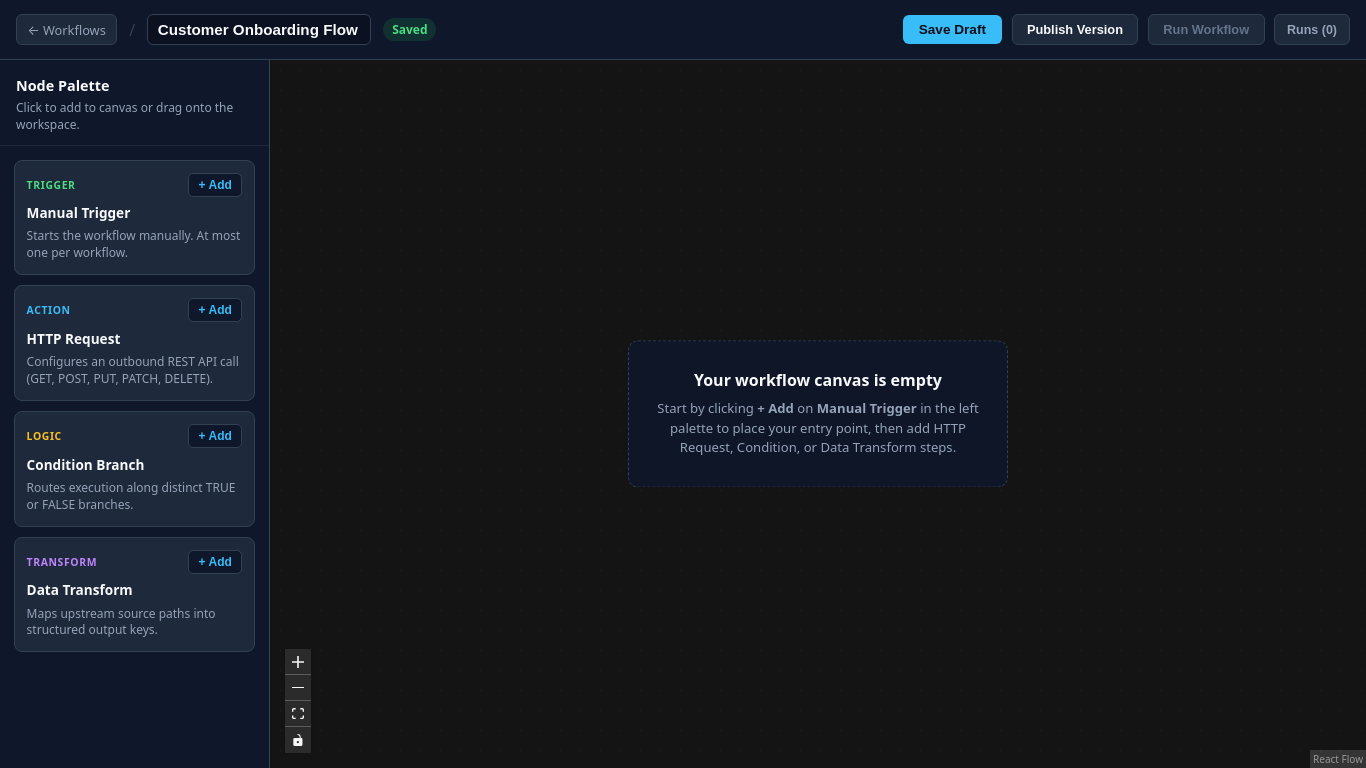
Test case: @flowforge/web — Dashboard & Visual Workflow Editor Suite › 2. WorkflowEditor › renders empty state guidance on a fresh workflow, adds nodes, configures properties, marks dirty, and saves draft via API
This screenshot has width=1366, height=768.
expect the element with test id "empty-canvas-guidance" is shown: met, box [628, 340, 1008, 488]
expect the message with test id "save-status-indicator" reads "Saved": met, box [392, 21, 428, 38]
Add Manual Trigger node
Click the button with aria-label "Add Manual Trigger node": (215, 185) [188, 173, 242, 197]
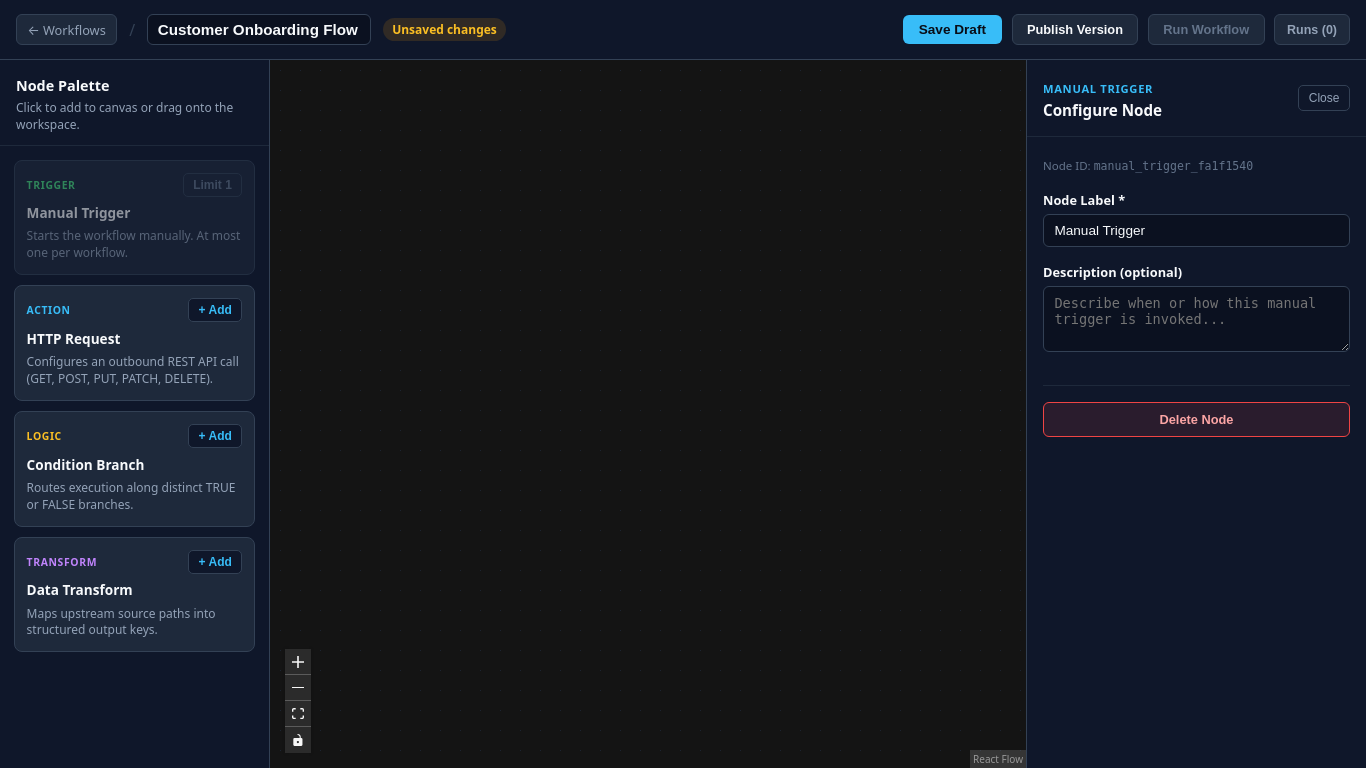
expect the element with test id "empty-canvas-guidance" is gone: met
expect the message with test id "save-status-indicator" reads "Unsaved changes": met, box [392, 21, 497, 38]
expect the button with aria-label "Add Manual Trigger node" is disabled: met, box [182, 173, 242, 197]
Click the button with aria-label "Add HTTP Request node": (215, 310) [188, 298, 242, 322]
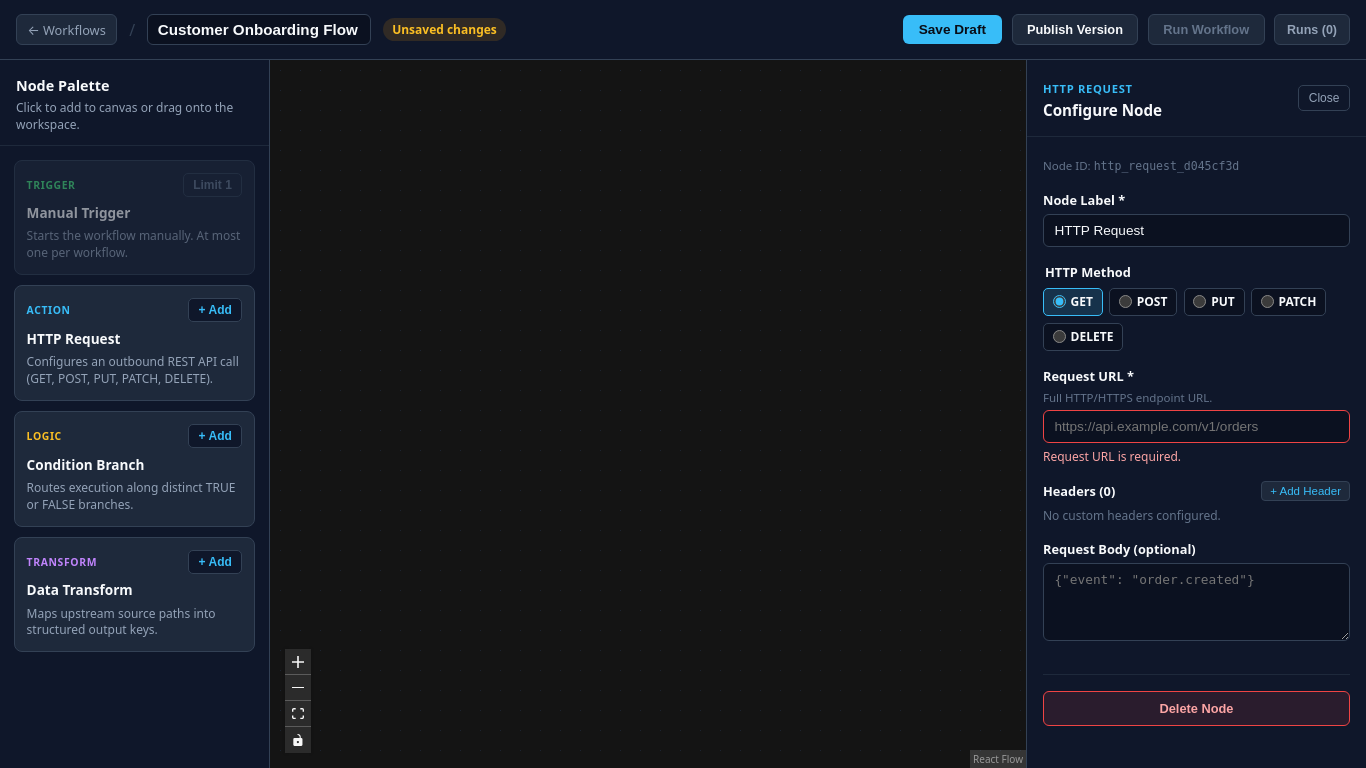
expect the element with test id "node-config-panel" is shown: met, box [1026, 60, 1365, 767]
Replace the text in the field labelled "Node Label *" with "Fetch Stripe Customer": (1196, 231) [1043, 214, 1350, 247]
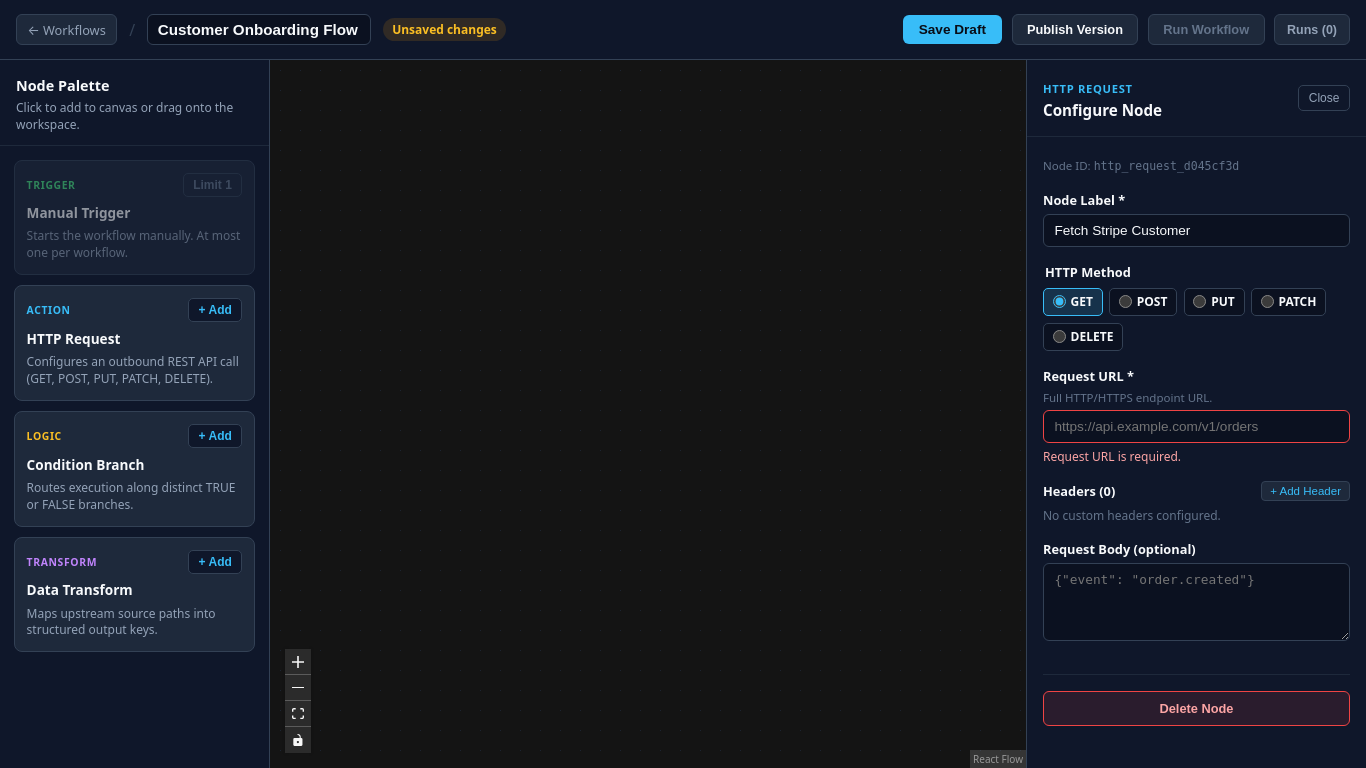
In the field labelled "Request URL *": (1196, 426) [1043, 410, 1350, 443], type "https://api.stripe.com/v1/customers"
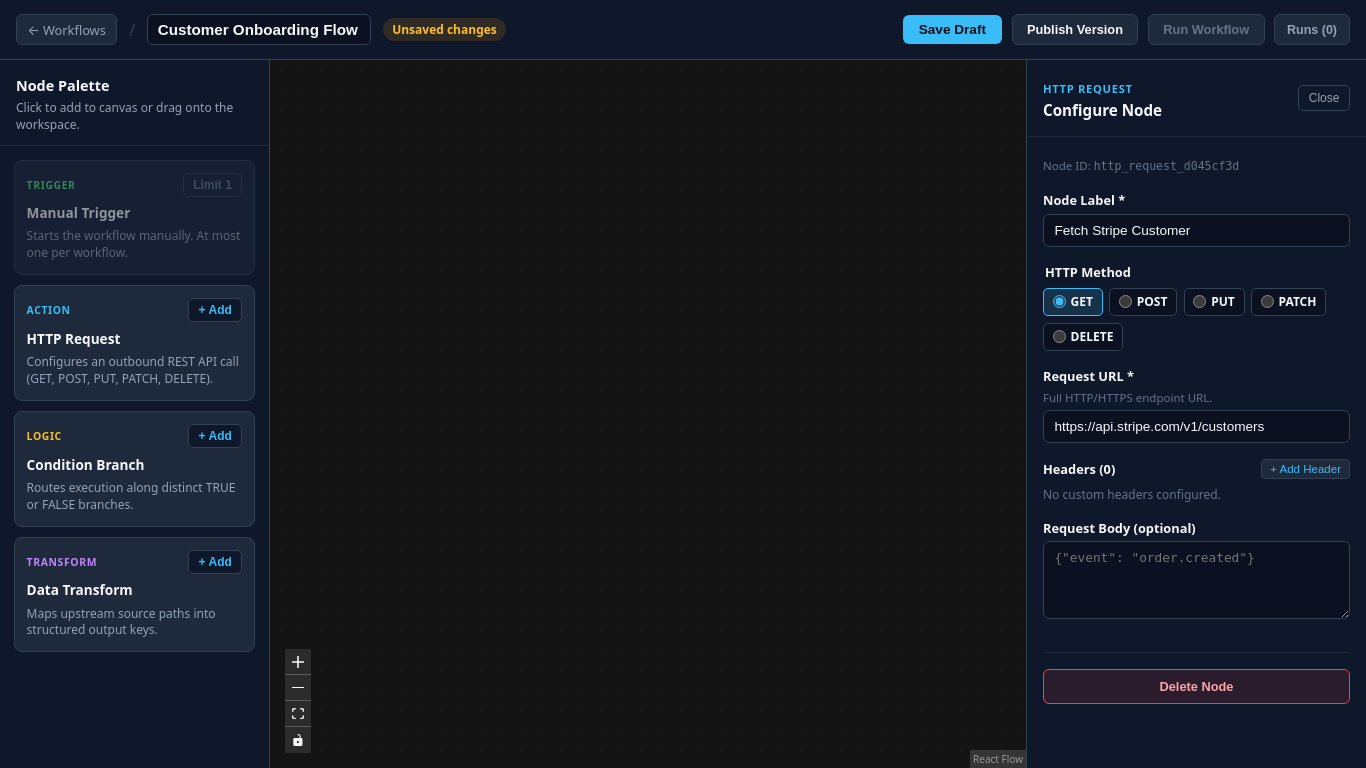
Click Save Draft
Click the button "Save Draft": (952, 30) [903, 15, 1002, 44]
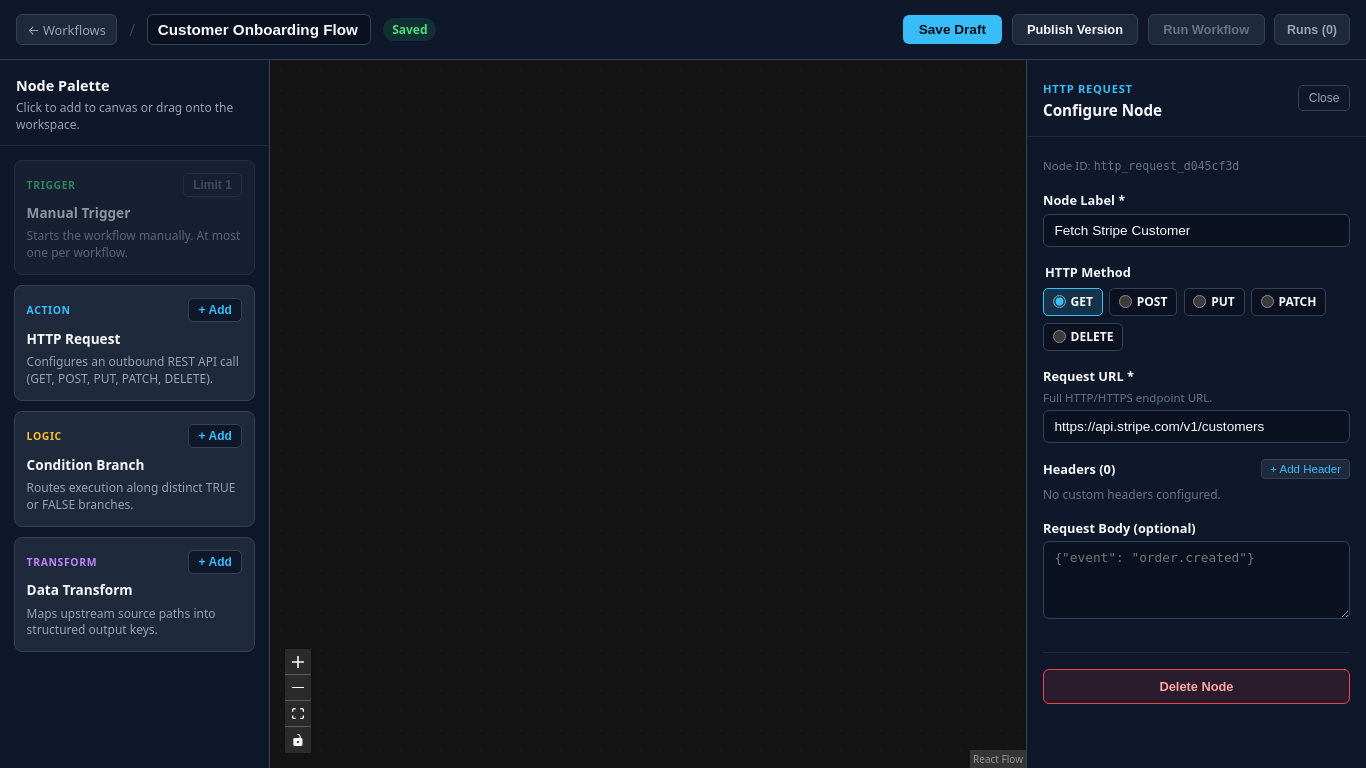
expect the message with test id "save-status-indicator" reads "Saved": met, box [392, 21, 428, 38]
